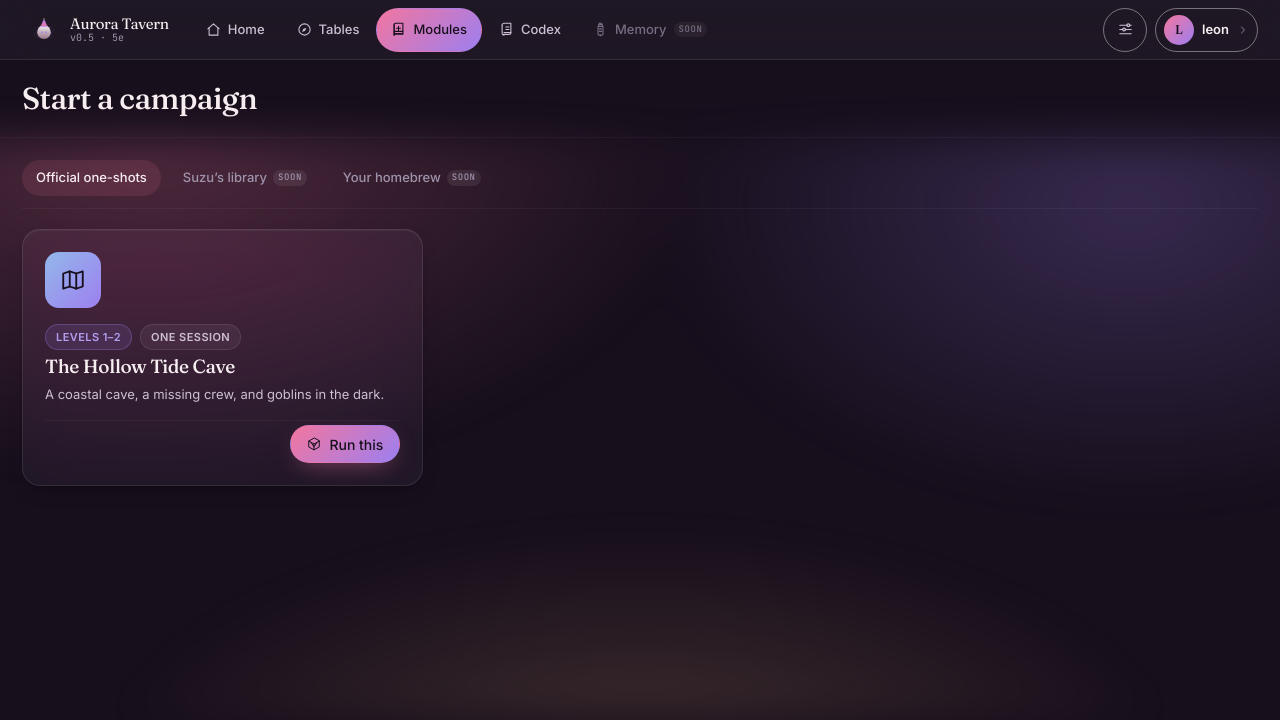
Test case: ONE-CHAR-ONE-CAMPAIGN-UX picker › renders an in-use badge naming the character's current table
Click the button "Run this". click: (345, 444)
box: [290, 425, 400, 463]
(page scrolled)
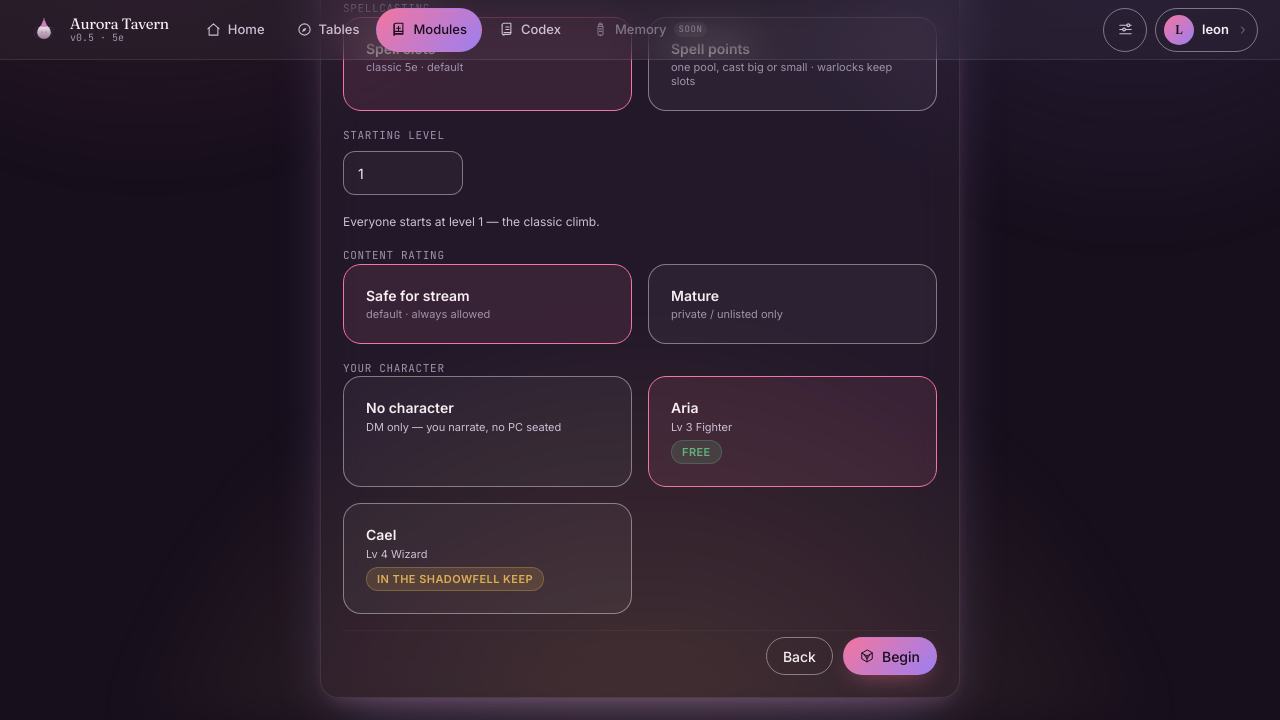
Check: the element named "your character" is shown, box [343, 376, 937, 614]
Check: the text "In The Shadowfell Keep" is shown, box [366, 567, 544, 591]
Check: the text "Free" is shown, box [671, 440, 722, 464]
